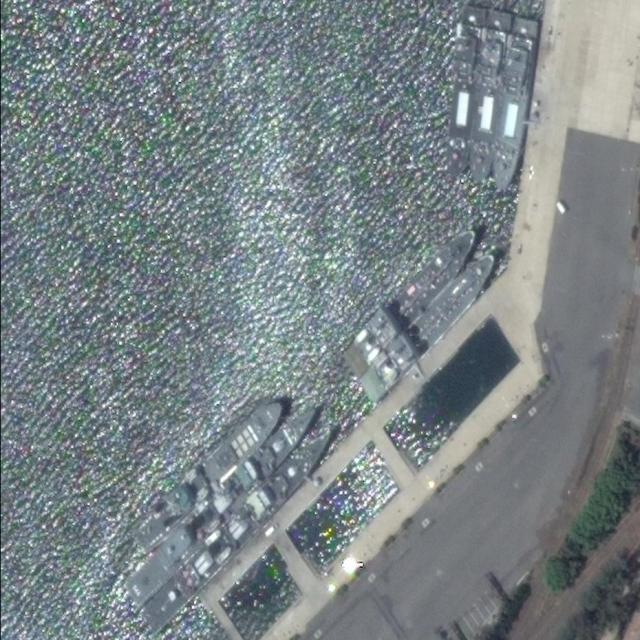Frigate: (116, 396, 326, 612), (136, 421, 343, 633)
Landing: (335, 220, 485, 376), (354, 246, 503, 403), (484, 18, 541, 194), (460, 11, 511, 193), (440, 6, 482, 184)
Other Warship: (130, 392, 291, 555)
